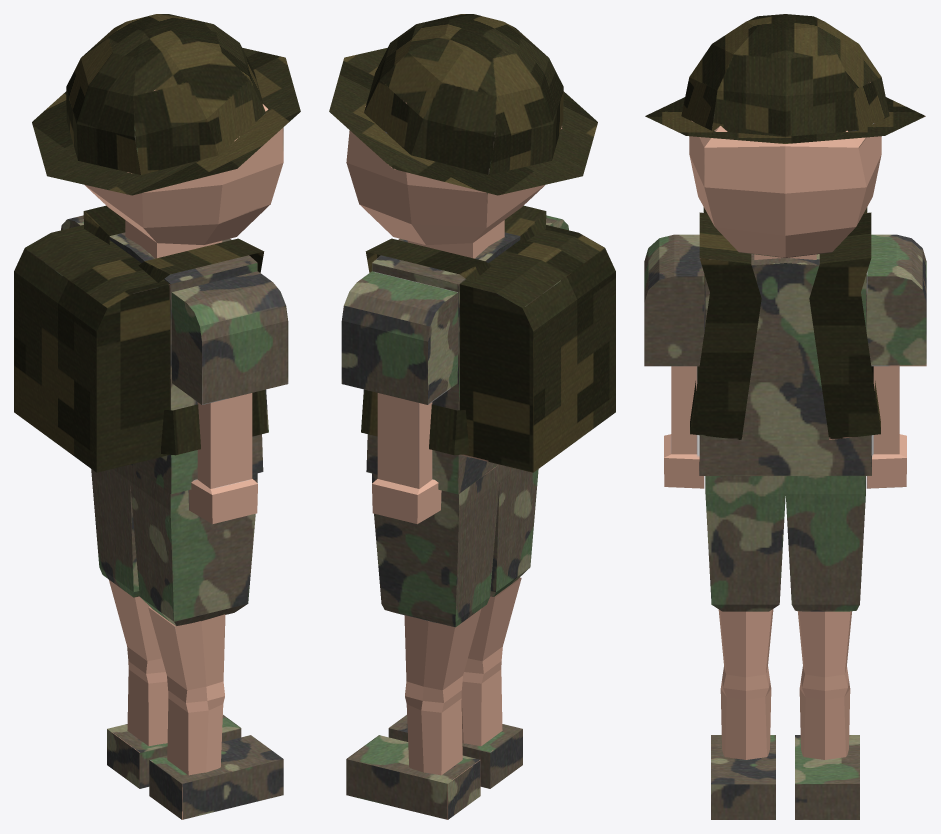
File: renwu3.fbx
3 views of the same model, side by side, from view 1: azimuth 30°, elevation 25°; view 2: azimuth 150°, elevation 25°; view 3: azimuth 270°, elevation 25° (orthographic).
Visible parts, largest first — view 1: renwu3; view 2: renwu3; view 3: renwu3.
Boxes of the visible parts, x1,y1,x2,y2 form: renwu3: (14,14,300,819); renwu3: (329,14,615,819); renwu3: (644,14,926,819).
Size of the model in its own units: 0.5786 by 1.77 by 0.5975.
Materials: 1 (1 with a texture image).
